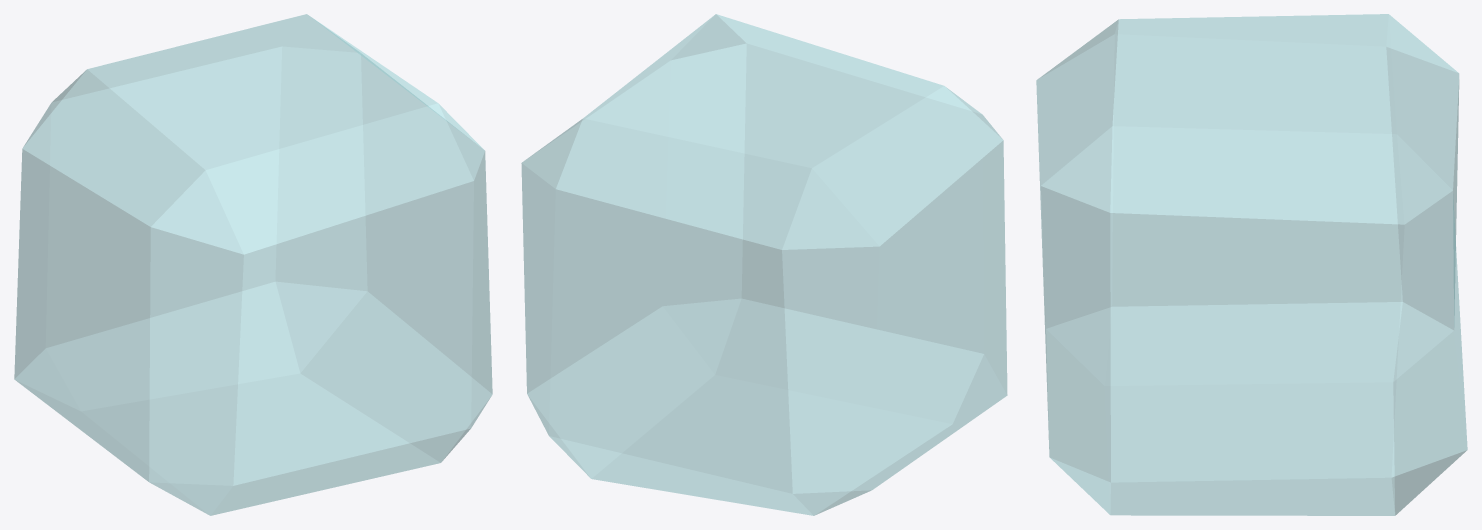
Rendered from CrystalBox.fbx.
3 renders of one model, left to right at view 1: azimuth 30°, elevation 25°; view 2: azimuth 150°, elevation 25°; view 3: azimuth 270°, elevation 25°, orthographic. The views are drawn at different scales.
Parts seen in each view (by area): view 1: Crystal; view 2: Crystal; view 3: Crystal.
Boxes of the visible parts, x1,y1,x2,y2 form: Crystal: (14, 14, 492, 515); Crystal: (521, 14, 1007, 515); Crystal: (1036, 14, 1467, 515).
Bounding box in the file's own units: 1.04 × 1.04 × 1.03.
